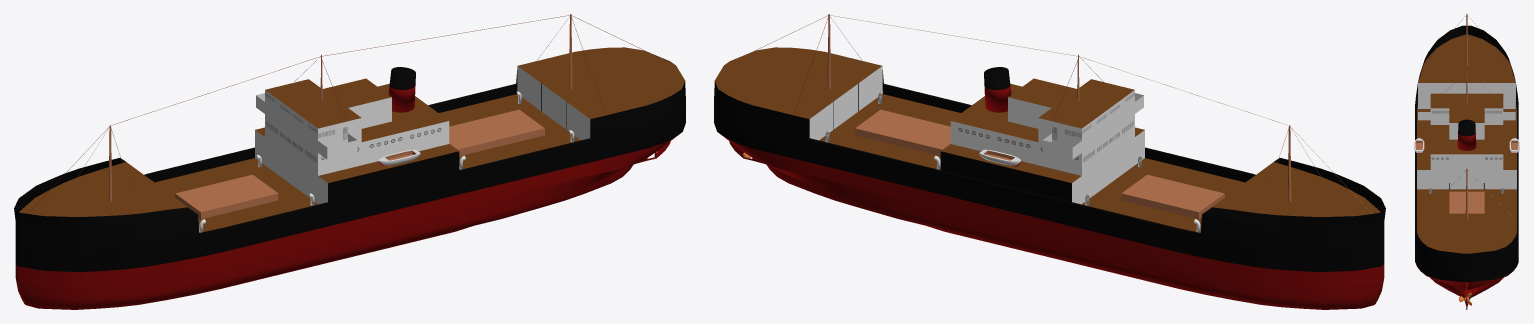
File: GeneralCargo.glb
The picture shows the model from 3 angles, left to right: view 1: azimuth 30°, elevation 25°; view 2: azimuth 150°, elevation 25°; view 3: azimuth 270°, elevation 25°; orthographic projection. The views are drawn at different scales.
Parts seen in each view (by area): view 1: Cube, Cylinder.007, Vert; view 2: Cube, Cylinder.007, Vert; view 3: Cube, Cylinder.007, Vert, LifeBoat, LifeBoat.001, Cylinder, Cylinder.002, Cylinder.008.
Boxes of the visible parts, x1=… form: Cube: x1=14, y1=47, x2=685, y2=309; Cylinder.007: x1=388, y1=67, x2=415, y2=112; Vert: x1=28, y1=15, x2=671, y2=213; Cube: x1=714, y1=47, x2=1385, y2=309; Cylinder.007: x1=984, y1=67, x2=1011, y2=112; Vert: x1=728, y1=15, x2=1371, y2=213; Cube: x1=1415, y1=25, x2=1518, y2=309; Cylinder.007: x1=1457, y1=119, x2=1476, y2=150; Vert: x1=1420, y1=16, x2=1514, y2=218; LifeBoat: x1=1414, y1=138, x2=1424, y2=153; LifeBoat.001: x1=1509, y1=138, x2=1519, y2=153; Cylinder: x1=1465, y1=14, x2=1468, y2=65; Cylinder.002: x1=1465, y1=168, x2=1468, y2=219; Cylinder.008: x1=1458, y1=292, x2=1471, y2=305.
Bounding box in the file's own units: 100 × 26.96 × 20.42.
10 materials, 5 textured.
